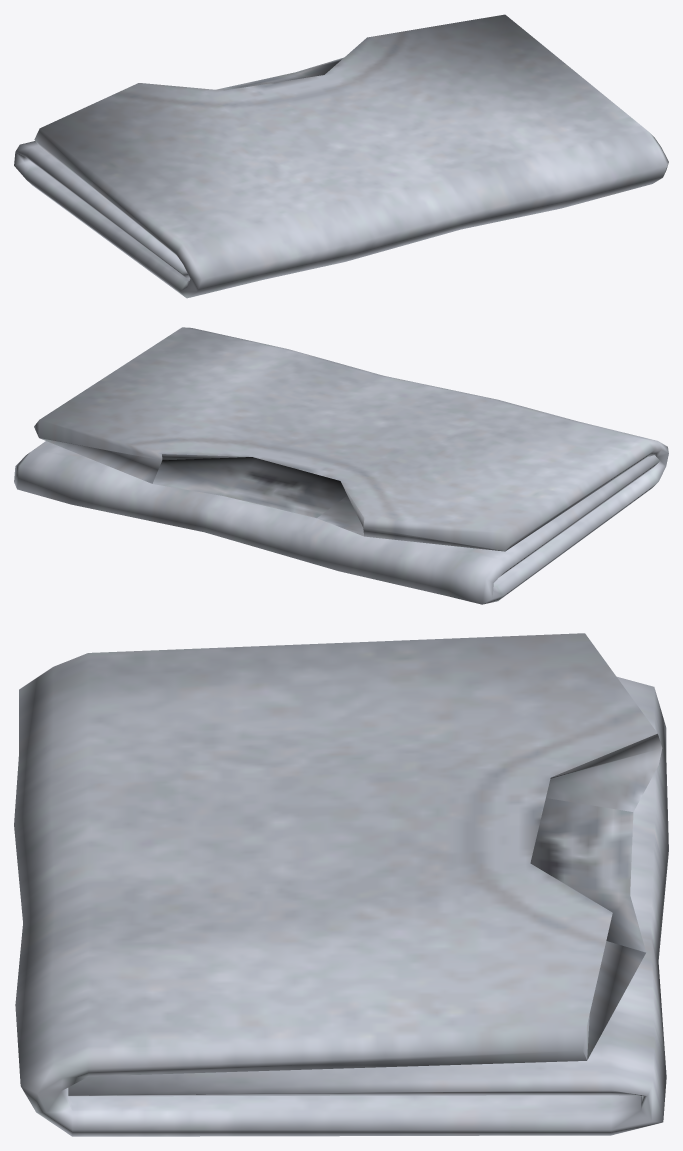
Rendered from paris_t_shirt_folded_base_lod1.glb.
3 renders of one model, top to bottom at view 1: azimuth 30°, elevation 25°; view 2: azimuth 150°, elevation 25°; view 3: azimuth 270°, elevation 25°, orthographic. The views are drawn at different scales.
Parts seen in each view (by area): view 1: surf0; view 2: surf0; view 3: surf0.
Boxes of the visible parts, bbox=[...] form: surf0: bbox=[14, 14, 668, 298]; surf0: bbox=[14, 327, 668, 604]; surf0: bbox=[14, 633, 668, 1136].
Bounding box in the file's own units: 14.73 × 2 × 10.02.
